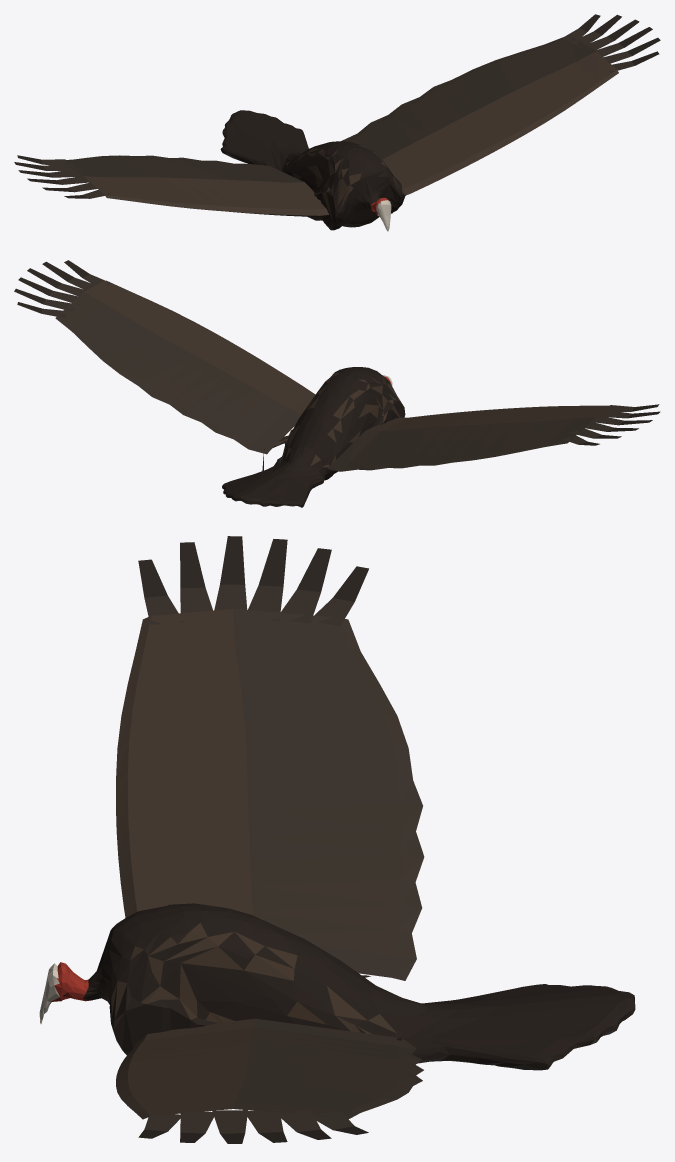
File: vulture.glb
The picture shows the model from 3 angles, top to bottom: view 1: azimuth 30°, elevation 25°; view 2: azimuth 150°, elevation 25°; view 3: azimuth 270°, elevation 25°; orthographic projection. The views are drawn at different scales.
Visible parts, largest first — view 1: lod0; view 2: lod0; view 3: lod0.
Part boxes in pixels (<box>): lod0: <box>14,14,660,231</box>; lod0: <box>14,260,660,507</box>; lod0: <box>39,536,635,1143</box>.
Size of what is drawn, in the model's own units: 1.75 by 0.3066 by 0.7249.
